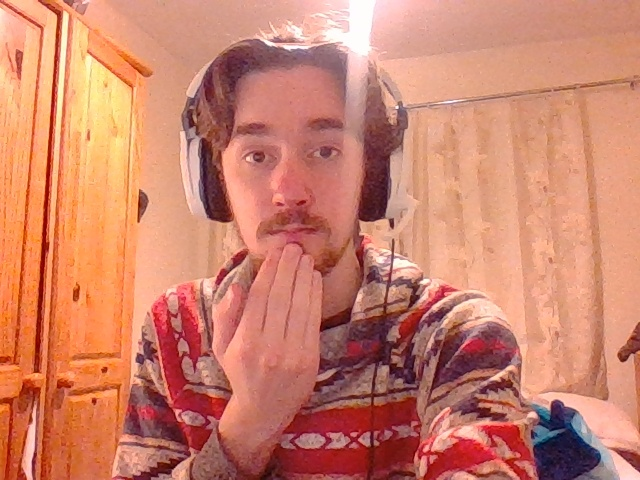thanks: (211, 244, 321, 440)
